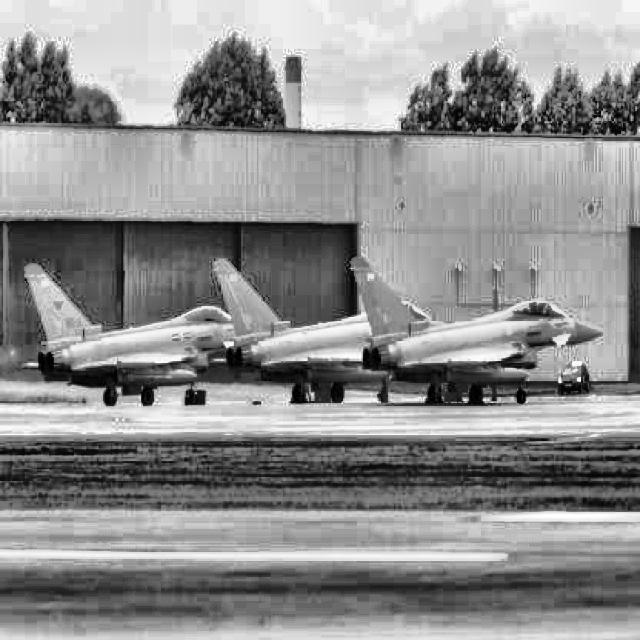EF2000: (348, 256, 602, 404), (208, 258, 447, 402), (21, 263, 236, 406)
